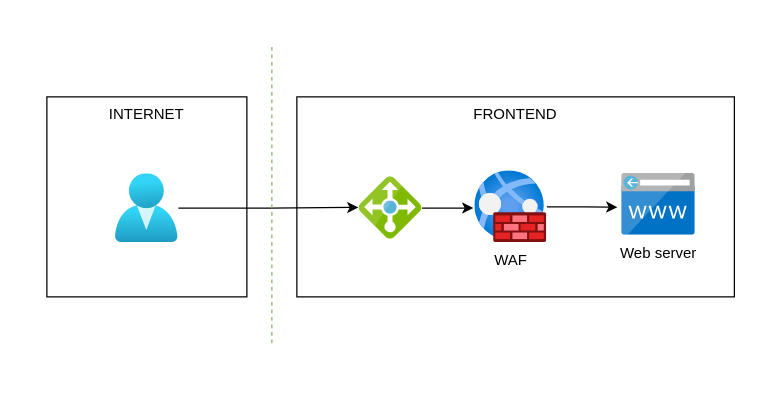
This 780x393 diagram has some shape labels left out. Each missing label, with the centre of its shape:
Balancer: point (390, 207)
Client: point (146, 207)
